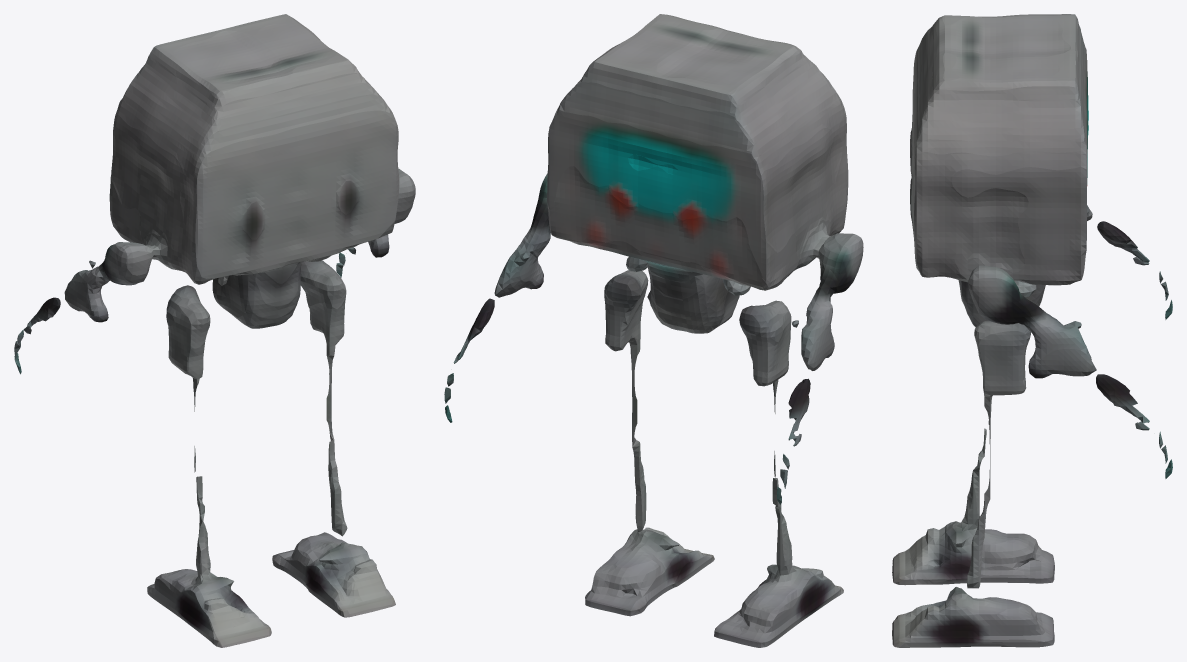
3 views of the same model, side by side, from view 1: azimuth 30°, elevation 25°; view 2: azimuth 150°, elevation 25°; view 3: azimuth 270°, elevation 25° (orthographic). The views are drawn at different scales.
Parts seen in each view (by area): view 1: tmp6sb8vdw_.ply; view 2: tmp6sb8vdw_.ply; view 3: tmp6sb8vdw_.ply.
Part boxes in pixels (<box>): tmp6sb8vdw_.ply: <box>14,14,415,647</box>; tmp6sb8vdw_.ply: <box>444,14,863,647</box>; tmp6sb8vdw_.ply: <box>892,14,1172,647</box>.
Bounding box in the file's own units: 1.08 × 1.68 × 0.7686.
